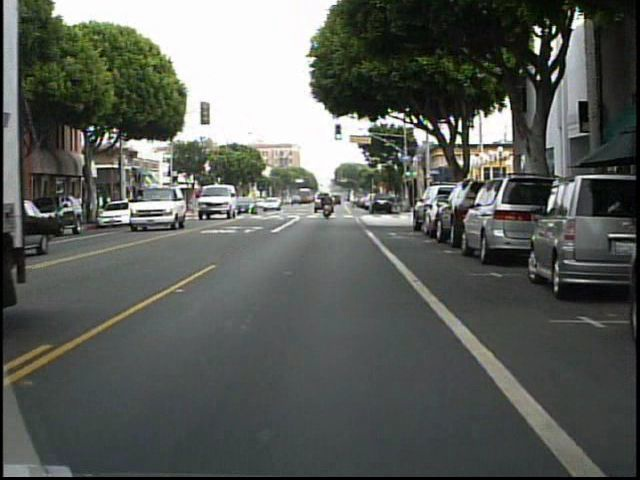person: (318, 191, 334, 220)
